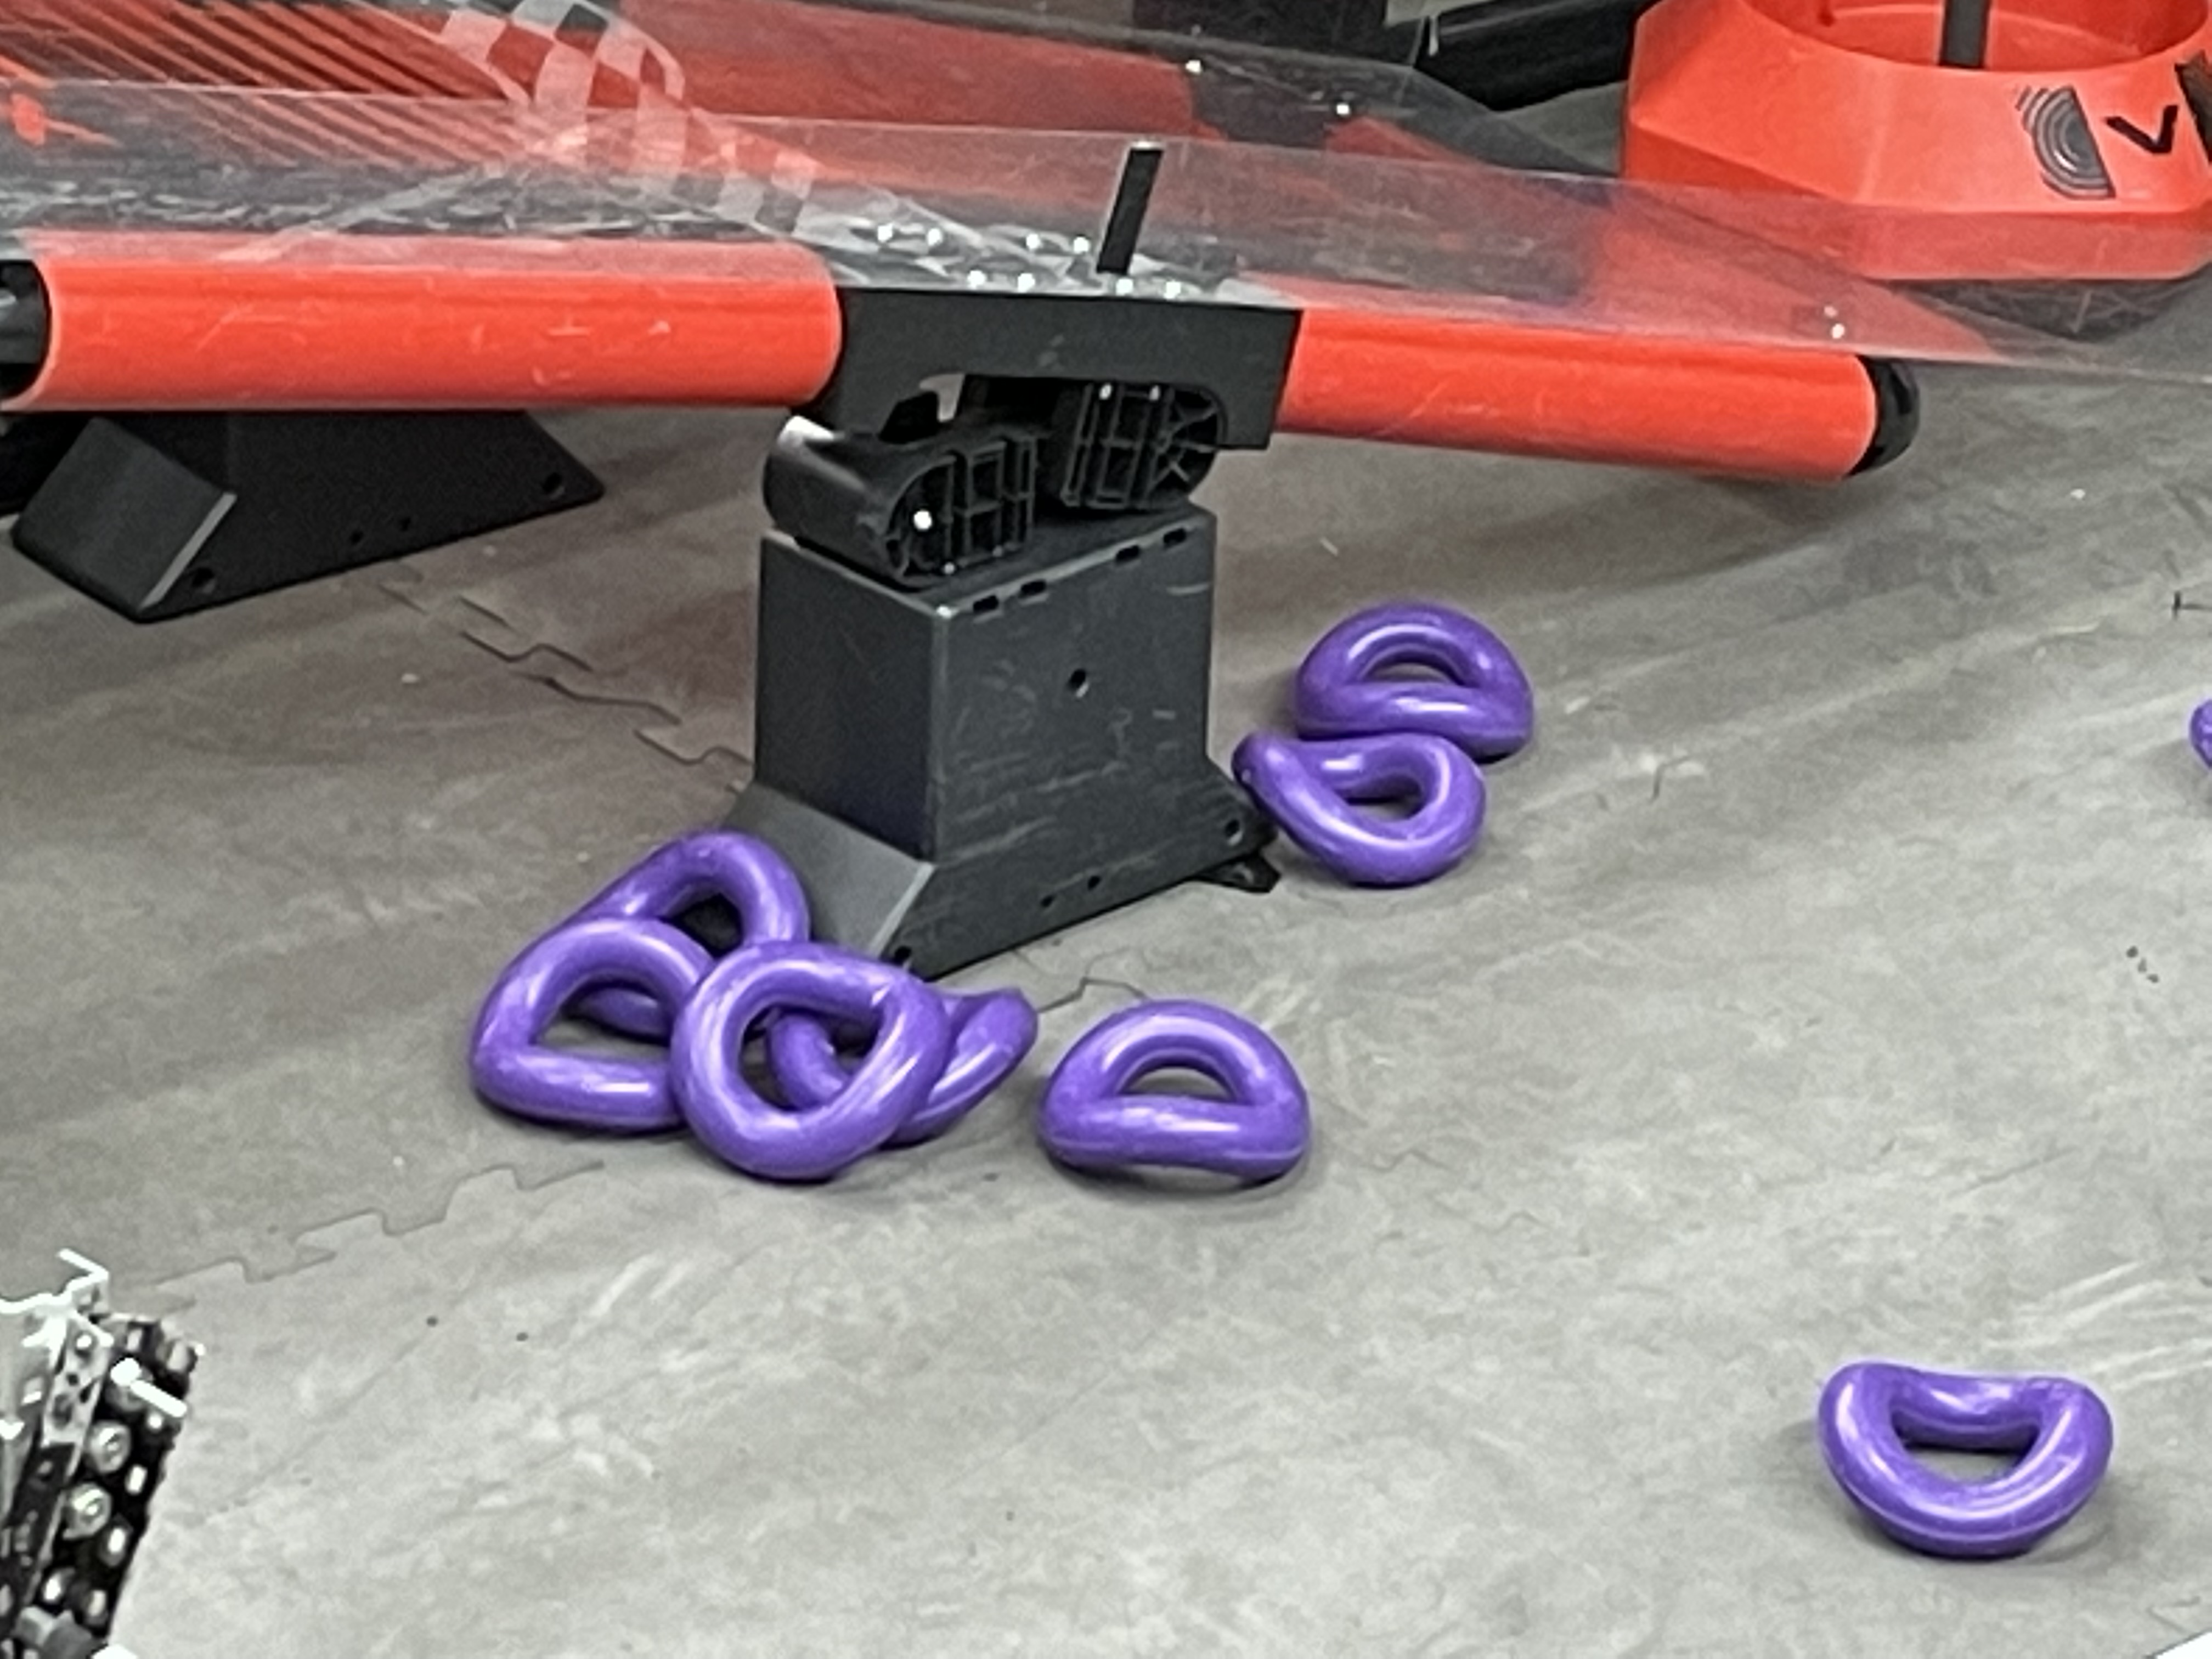ring: (664, 931, 954, 1195), (1813, 1340, 2116, 1574), (463, 913, 733, 1134), (1033, 992, 1315, 1194), (547, 831, 806, 1021), (766, 976, 1043, 1127), (1233, 730, 1489, 894), (1289, 601, 1538, 756)
